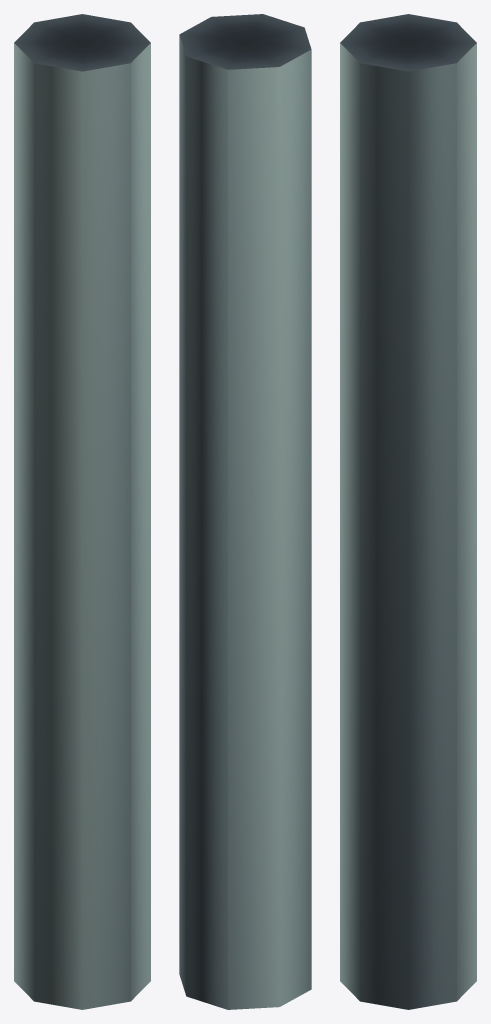
The model's file is drain_vertical_1m.fbx.
3 renders of one model, left to right at view 1: azimuth 90°, elevation 25°; view 2: azimuth 210°, elevation 25°; view 3: azimuth 270°, elevation 25°, orthographic.
Parts seen in each view (by area): view 1: drain_vertical_1m; view 2: drain_vertical_1m; view 3: drain_vertical_1m.
Part boxes in pixels (x1,y1,x2,y2): drain_vertical_1m: [14, 14, 150, 1009]; drain_vertical_1m: [179, 14, 311, 1009]; drain_vertical_1m: [340, 14, 476, 1009].
Bounding box in the file's own units: 13.17 × 100 × 13.21.
